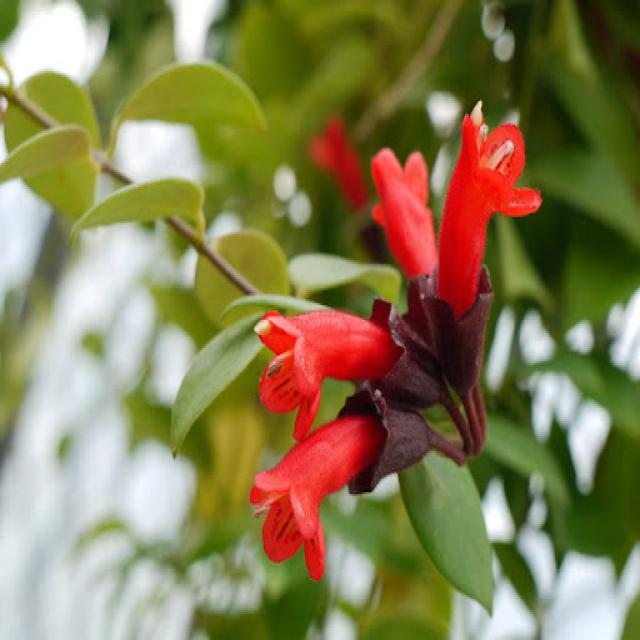Lipstick-Plant: (228, 90, 570, 595)
